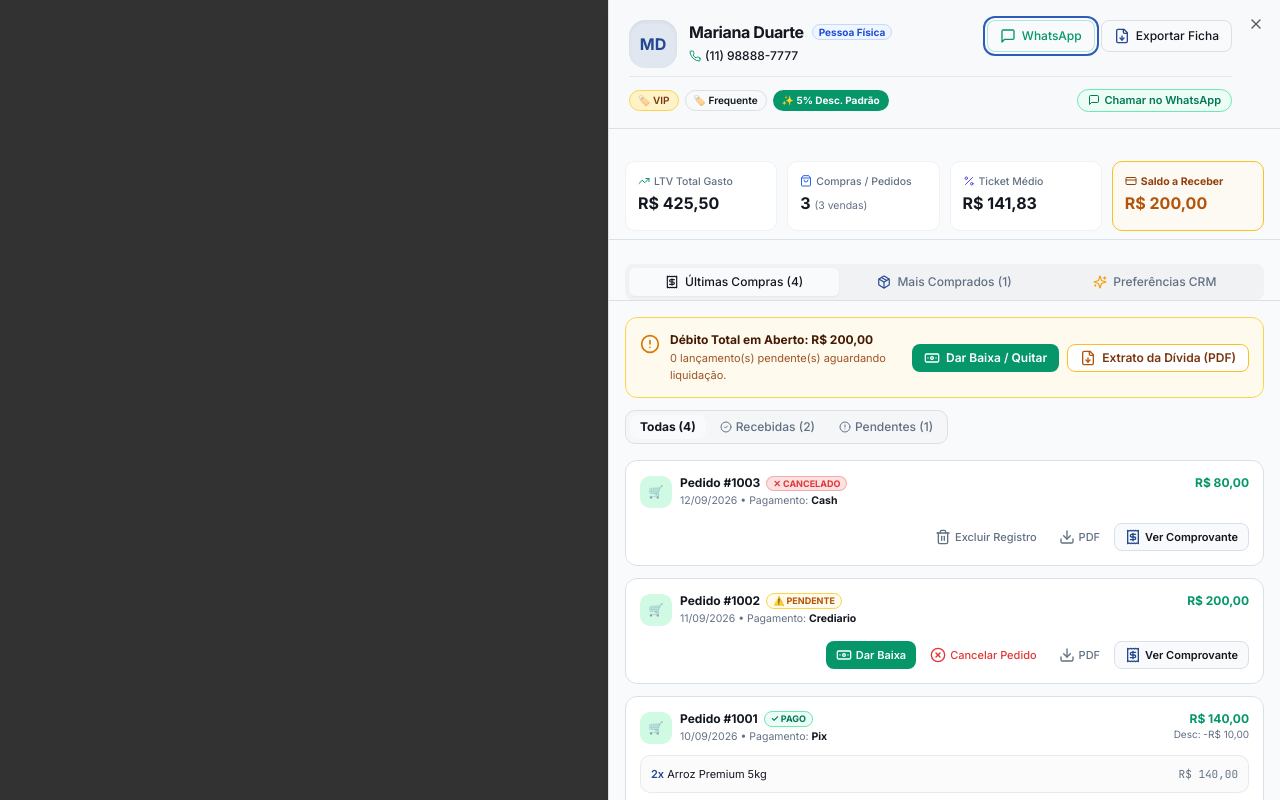
Customer 360 Profile and Preferences › deve exibir botões de Dar Baixa para pedidos/lançamentos pendentes e abrir o modal de quitação
Check: the text "Pedido #1002" is shown, box [680,593,760,609]
Click the button "Dar Baixa / Quitar" at (986, 358), box [912,344,1059,372]
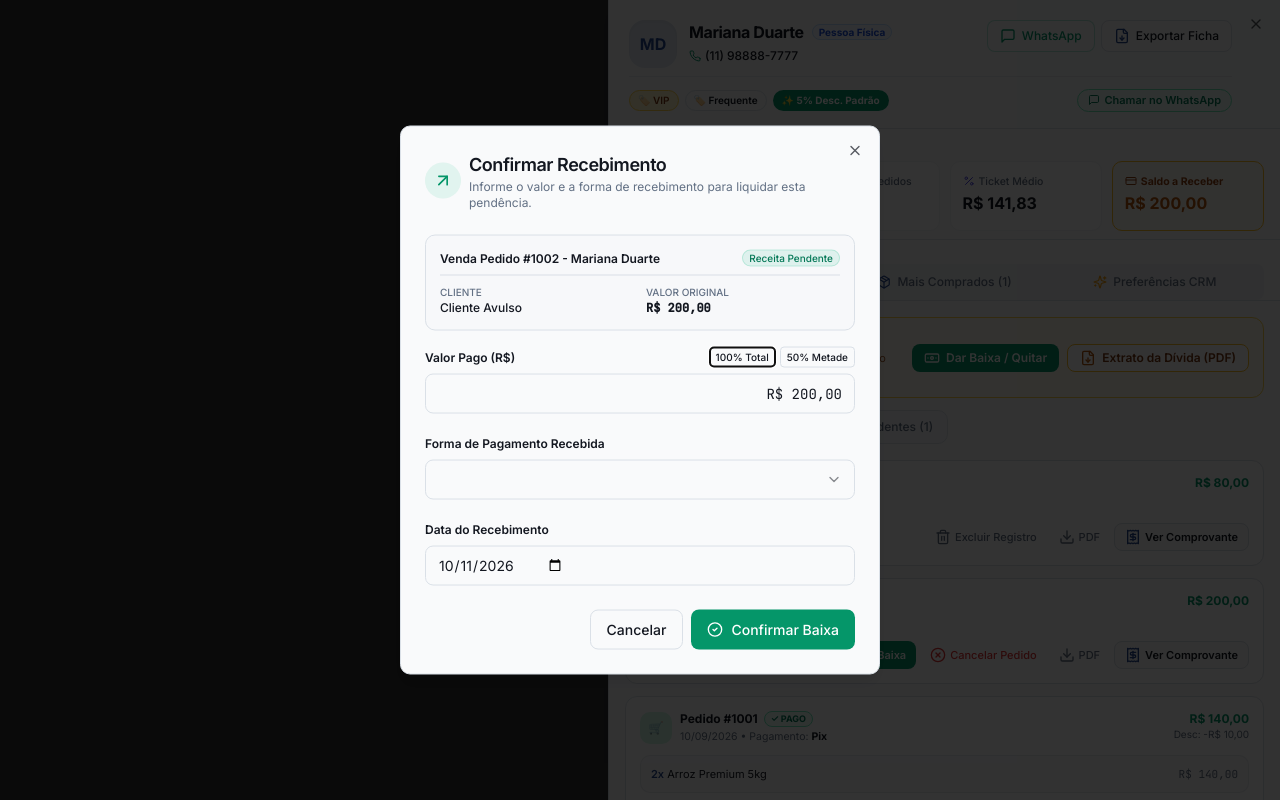
Check: the heading "Confirmar Recebimento" is shown, box [469,154,666,174]
